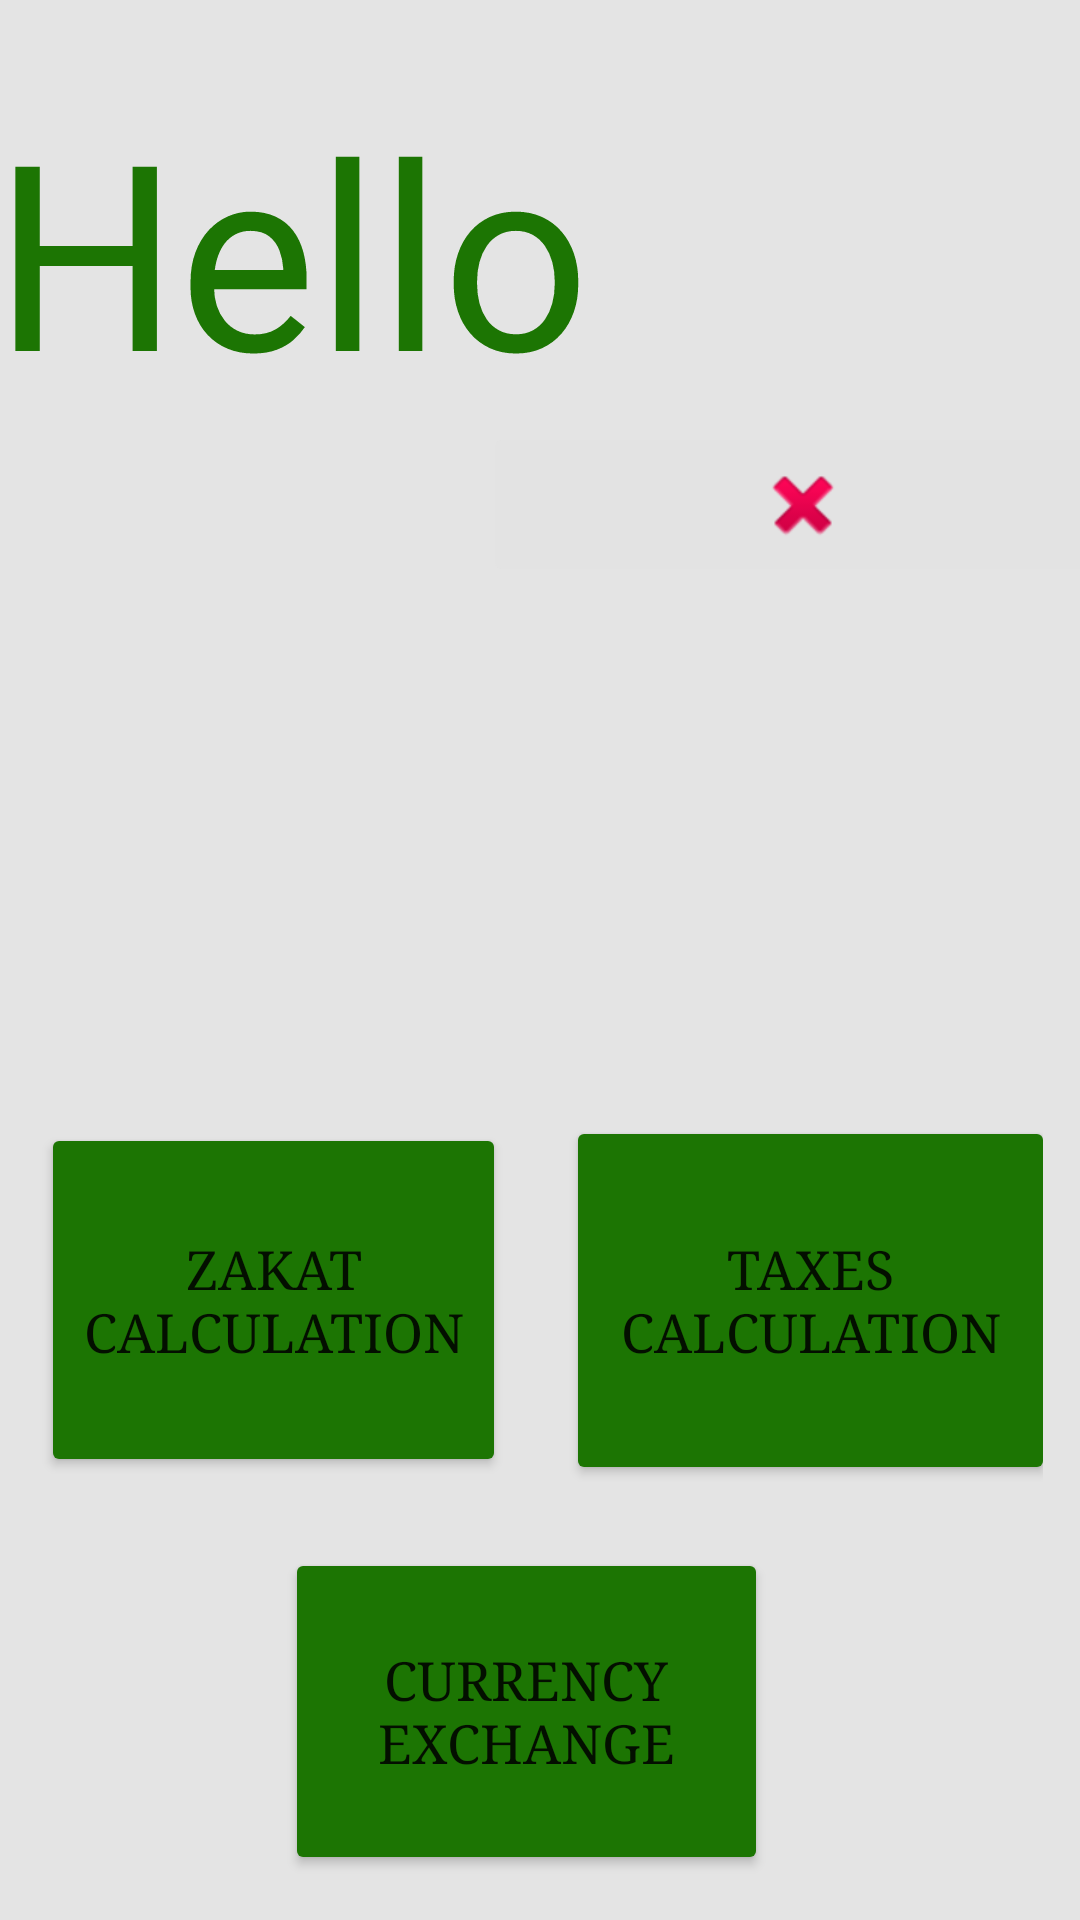

Locate icon controls on the screen. Image size 1080×1920, boxes as bbox=(x1, y1, x2, y2).
exit from program: bbox=(772, 476, 834, 535)
